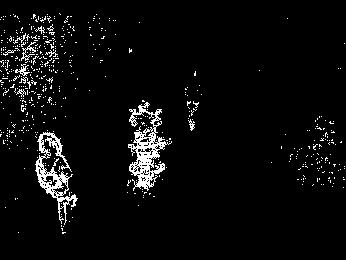person: (35, 132, 77, 236), (184, 71, 206, 133)
